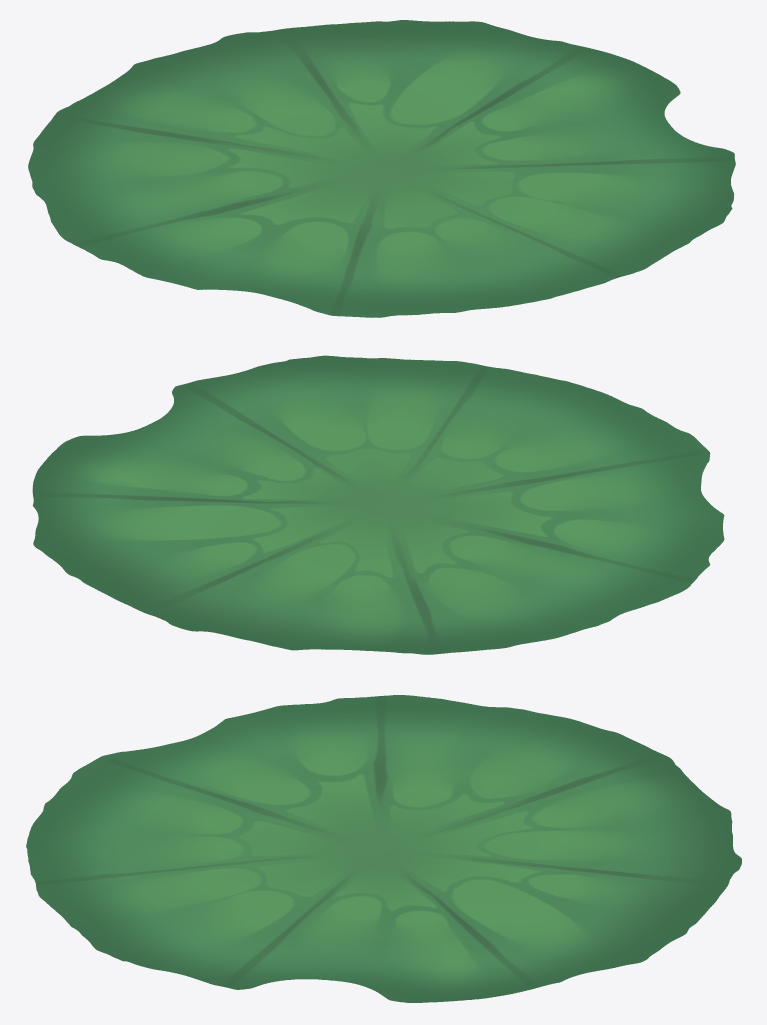
Rendered from MODEL_lilypad2.fbx.
3 renders of one model, top to bottom at view 1: azimuth 30°, elevation 25°; view 2: azimuth 150°, elevation 25°; view 3: azimuth 270°, elevation 25°, orthographic. The views are drawn at different scales.
Parts seen in each view (by area): view 1: Lilypad2; view 2: Lilypad2; view 3: Lilypad2.
Part boxes in pixels (x1=…): Lilypad2: x1=28, y1=20, x2=735, y2=317; Lilypad2: x1=32, y1=355, x2=724, y2=654; Lilypad2: x1=26, y1=695, x2=741, y2=1002.
Bounding box in the file's own units: 35.26 × 0 × 34.38.
